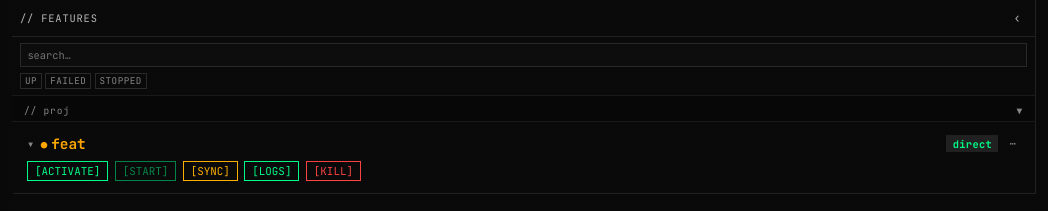
Scenario: FeatureList — search and status-chip filter › hides status chips when sidebar is collapsed
The image size is (1048, 211).
Click the button named "Collapse sidebar". click: [1017, 18]
box: x1=1007 y1=8 x2=1027 y2=28
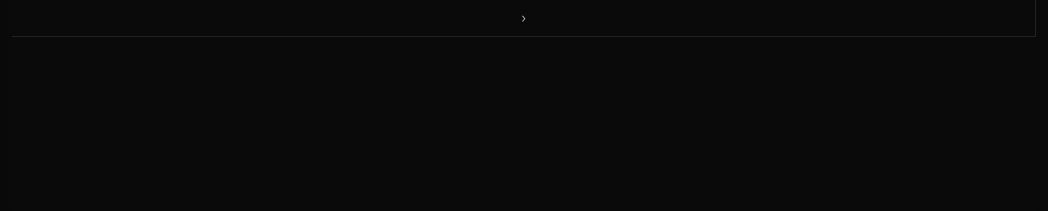
Expected: the button "UP" is gone
